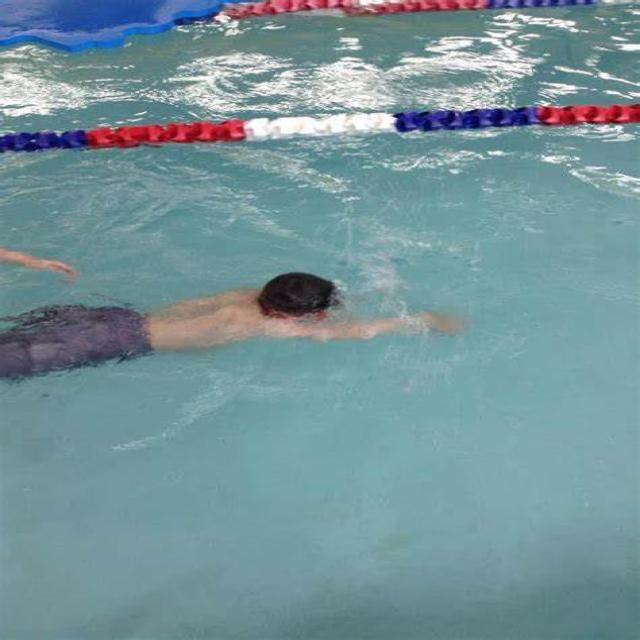swimming: (34, 232, 461, 412)
